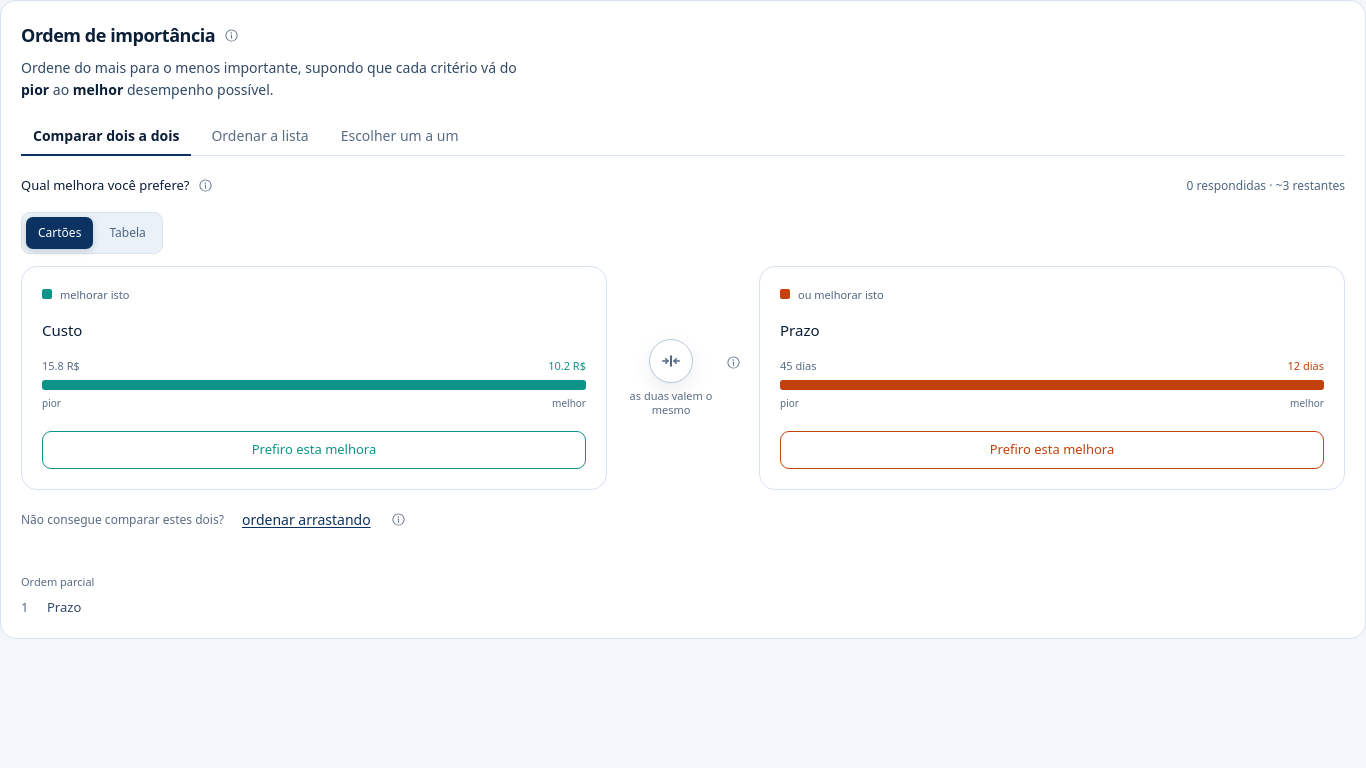
it: a faixa nos tres modos de ordenacao › o modo de ordenar a lista desenha a faixa de cada linha
Click the button "Ordenar a lista" at (260, 137), box [199,118,321,156]
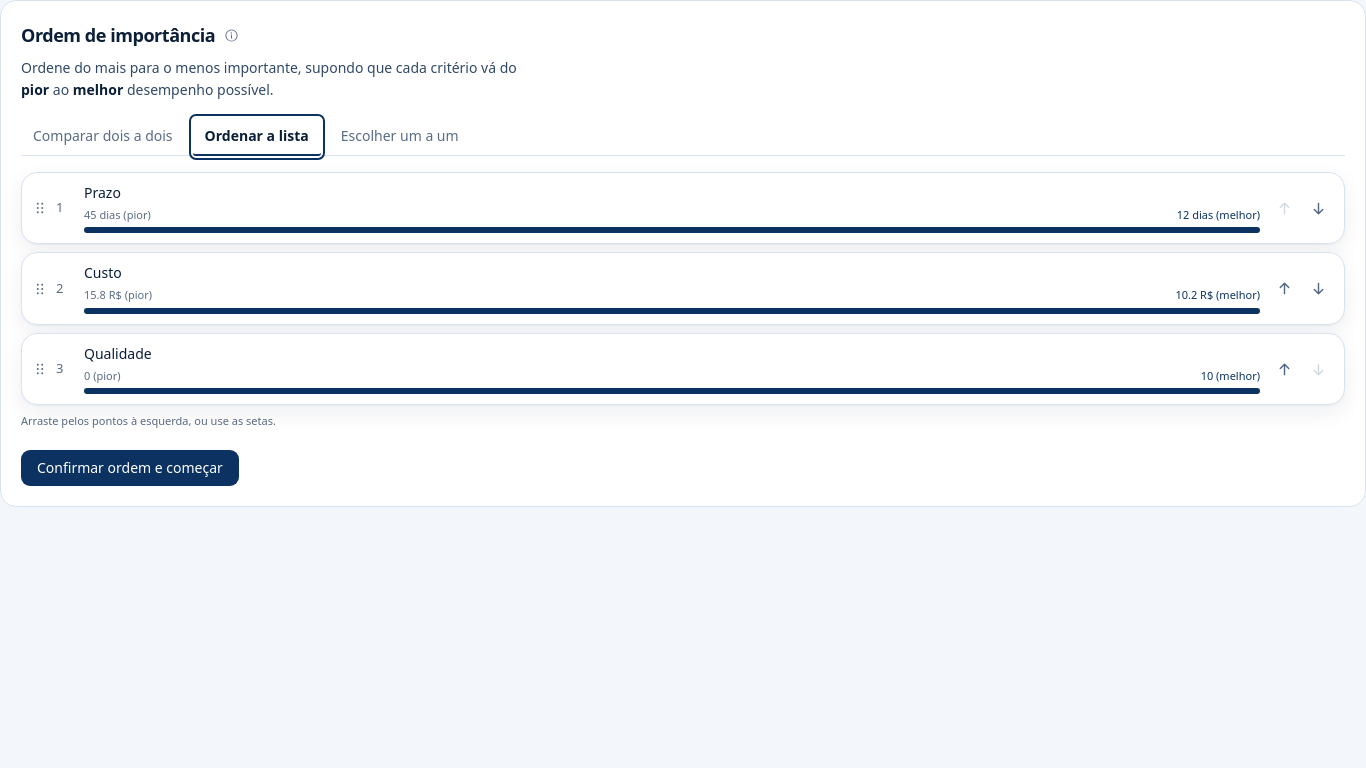
Check: the number of list items is 3, box [21,172,1345,244]; [21,252,1345,325]; [21,333,1345,405]
Check: the picture "45 dias (pior) 12 dias (melhor)" is shown, box [84,207,1260,233]
Check: the picture "15.8 R$ (pior) 10.2 R$ (melhor)" is shown, box [84,287,1260,314]
